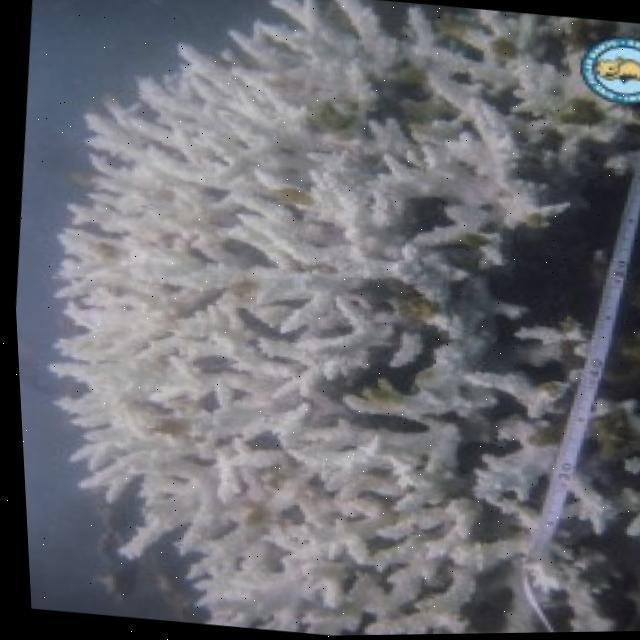Bleached Coral: (53, 2, 640, 639)
